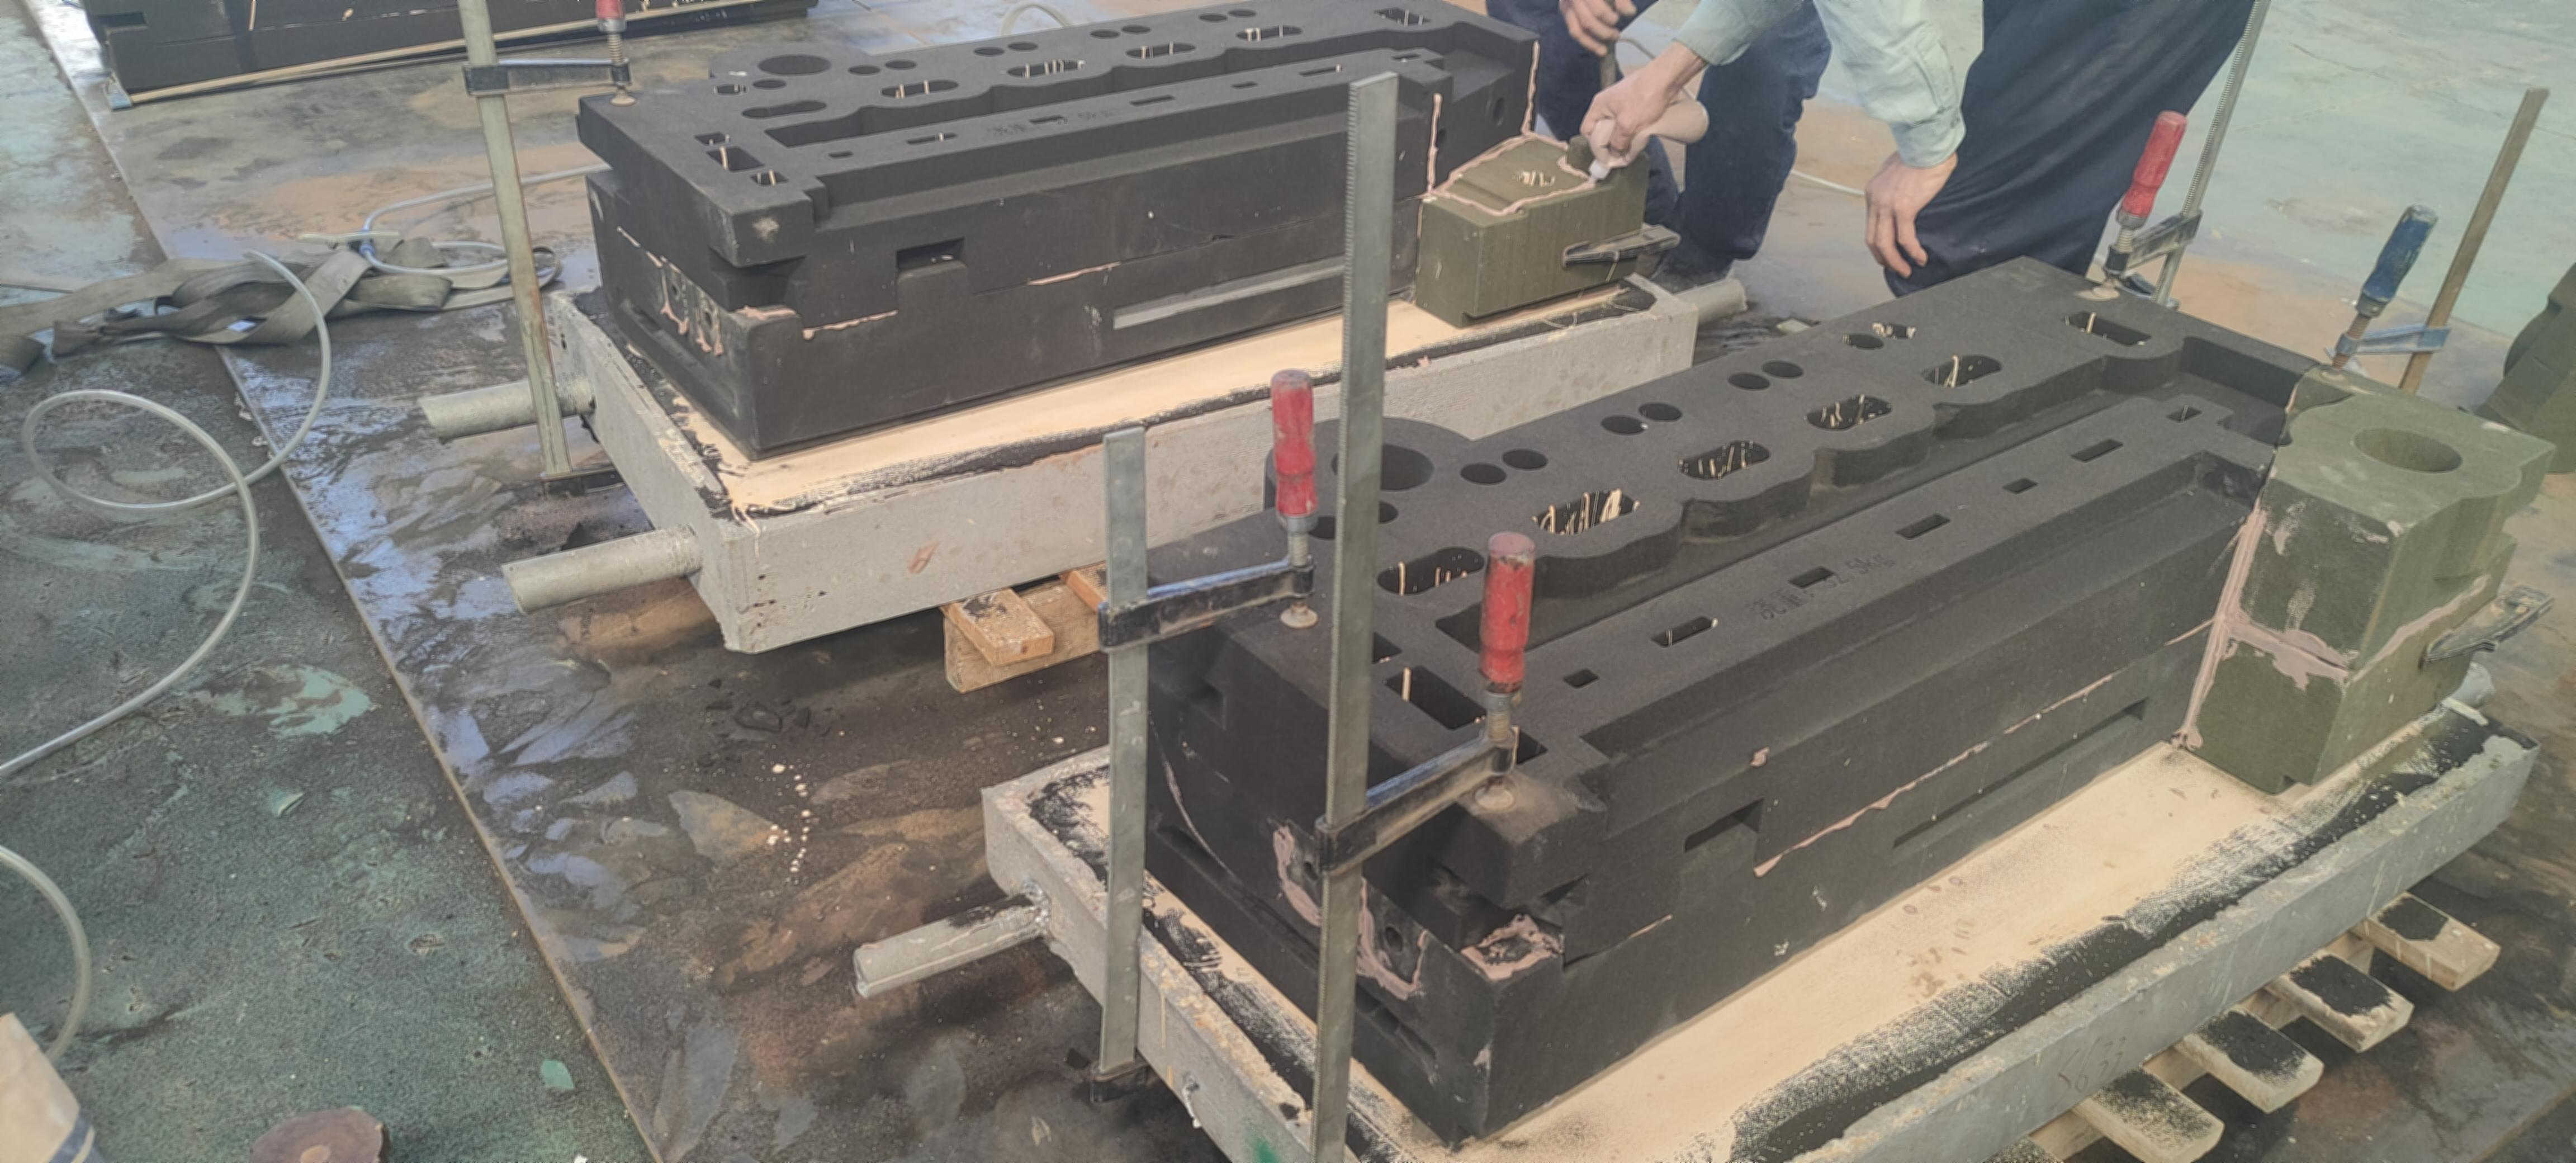pouring hole: (2348, 425, 2468, 476), (1331, 437, 1436, 491), (756, 53, 830, 77)
